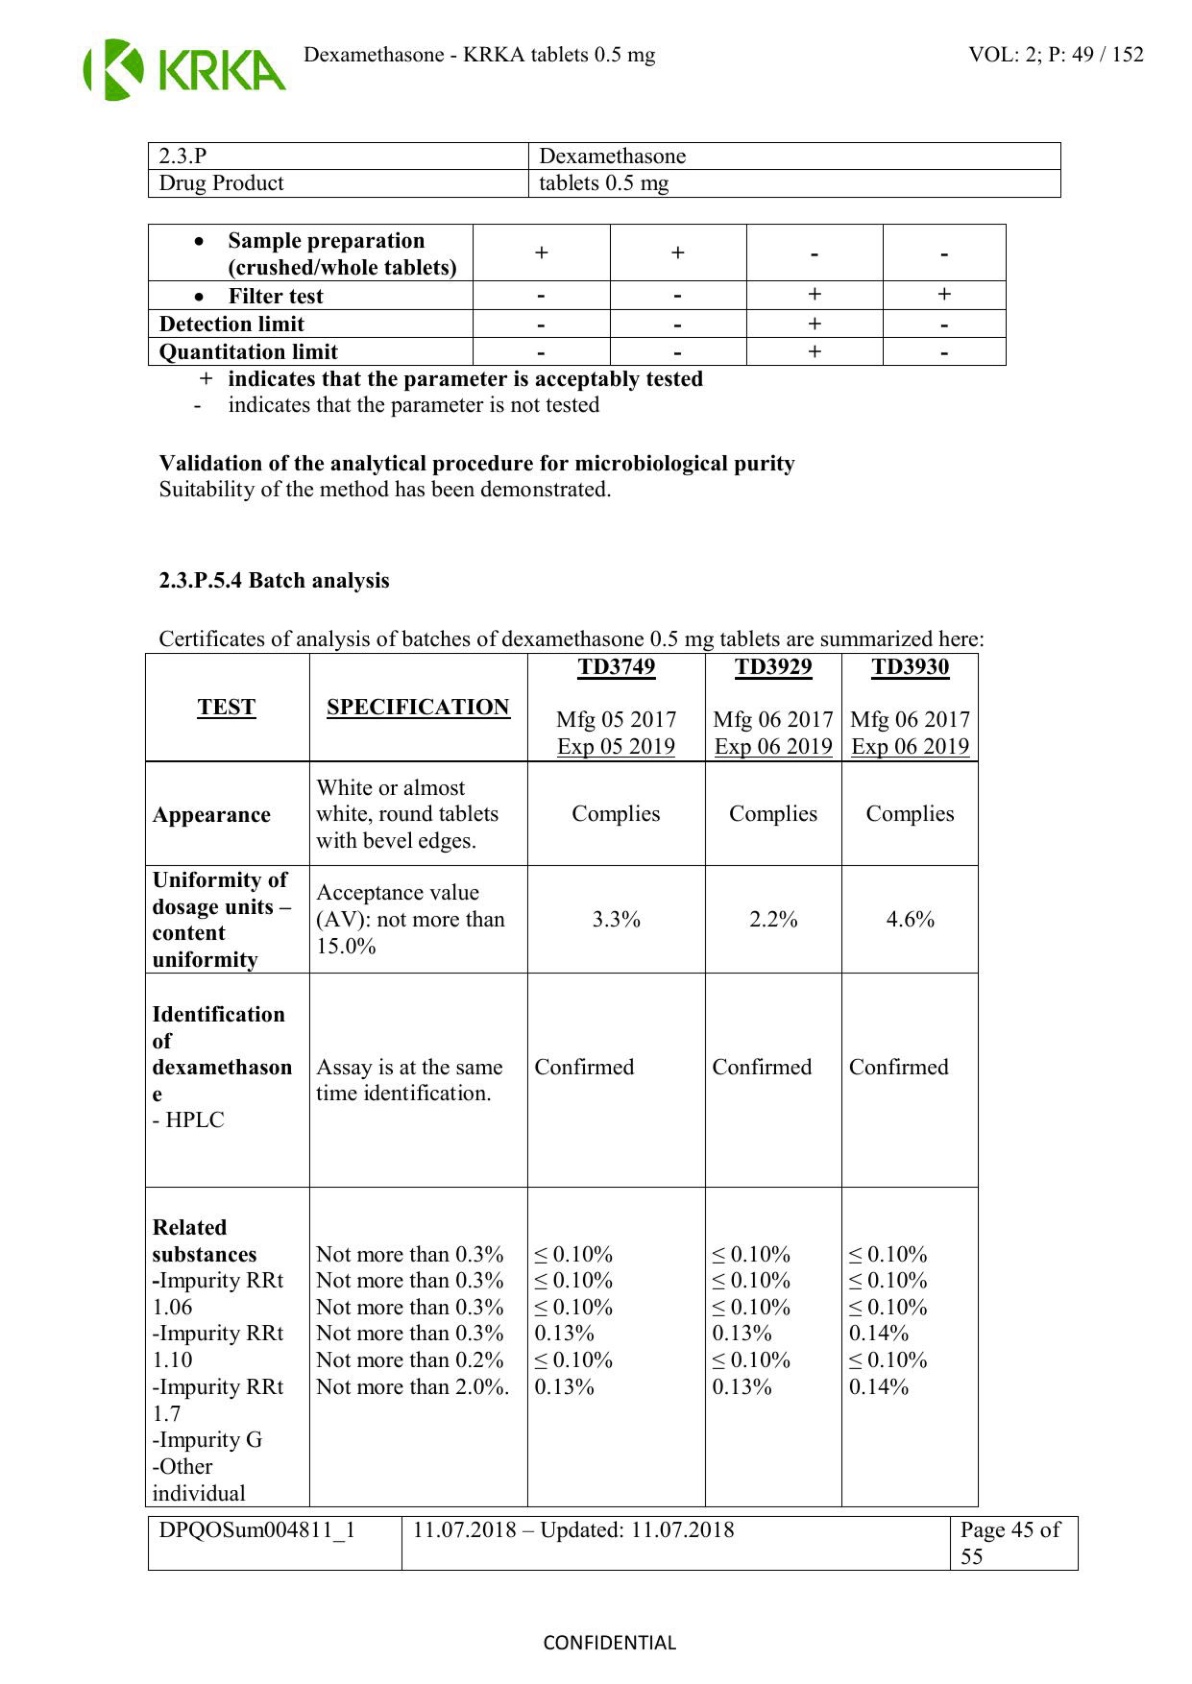full_lined: (144, 652, 979, 1509), (147, 223, 1008, 366), (147, 141, 1062, 199), (147, 1516, 1078, 1571)
